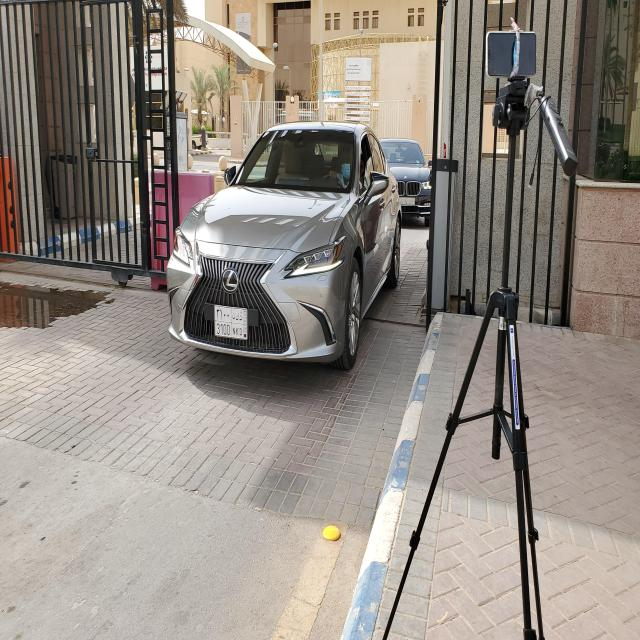license_plate: (213, 303, 248, 342), (398, 193, 416, 204)
